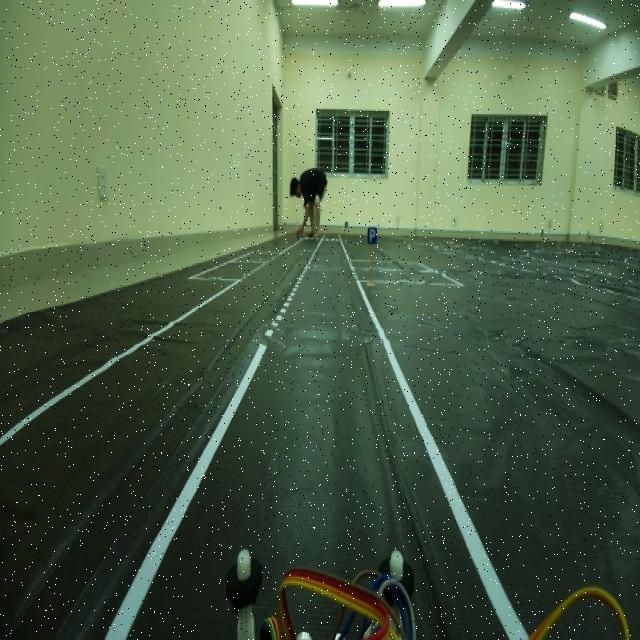parking: (364, 222, 377, 250)
